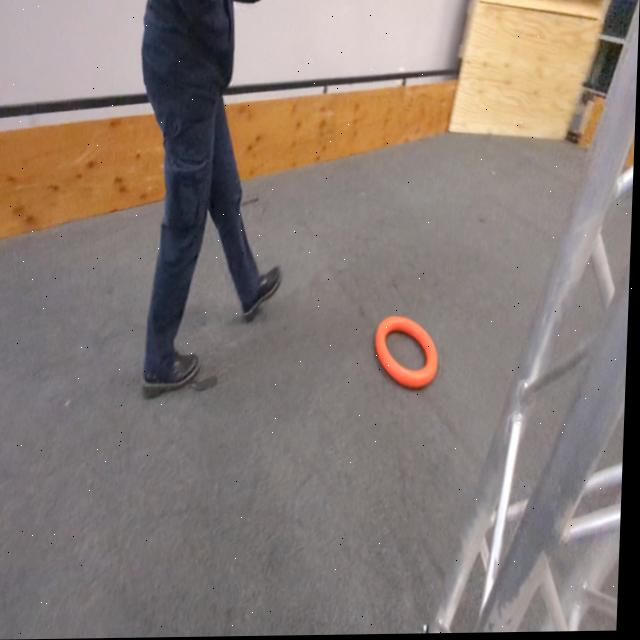note: (377, 314, 444, 390)
